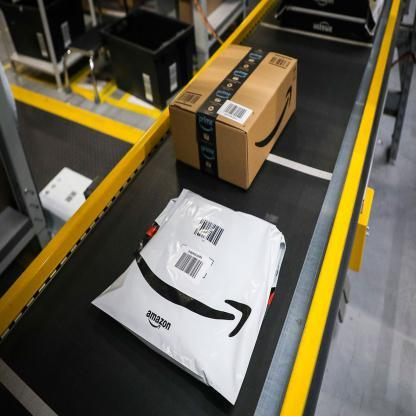package: (166, 42, 300, 196)
